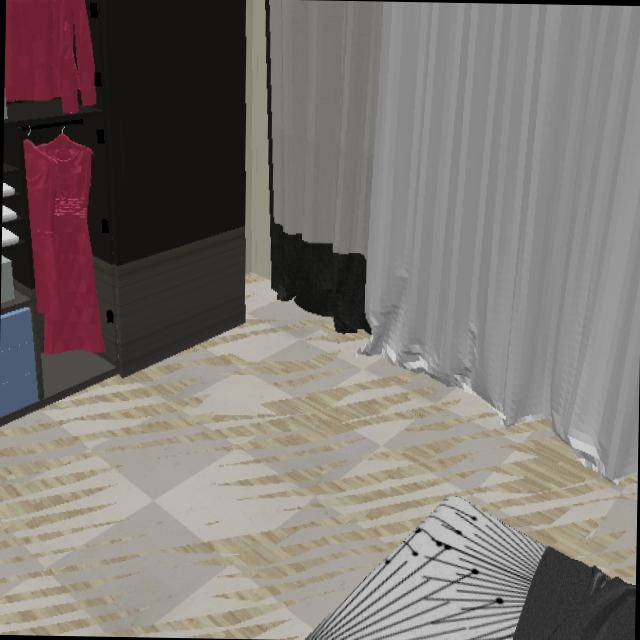bed: (305, 497, 635, 640)
wardrobe: (0, 0, 247, 420)
